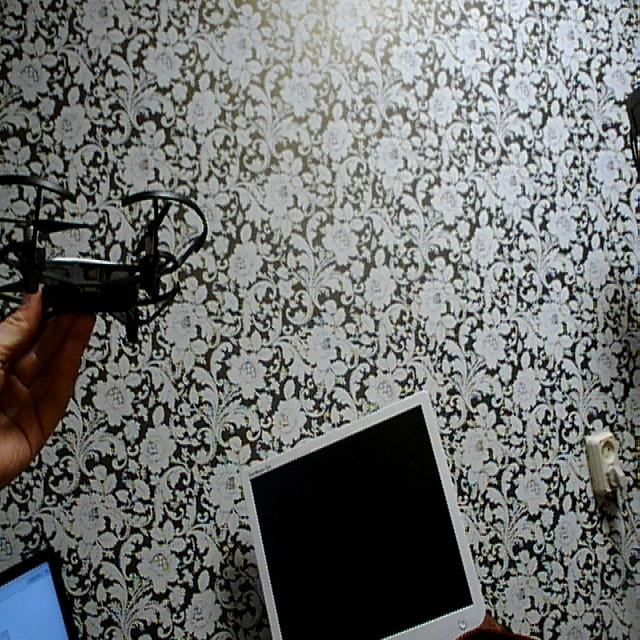drone: (0, 140, 210, 352)
